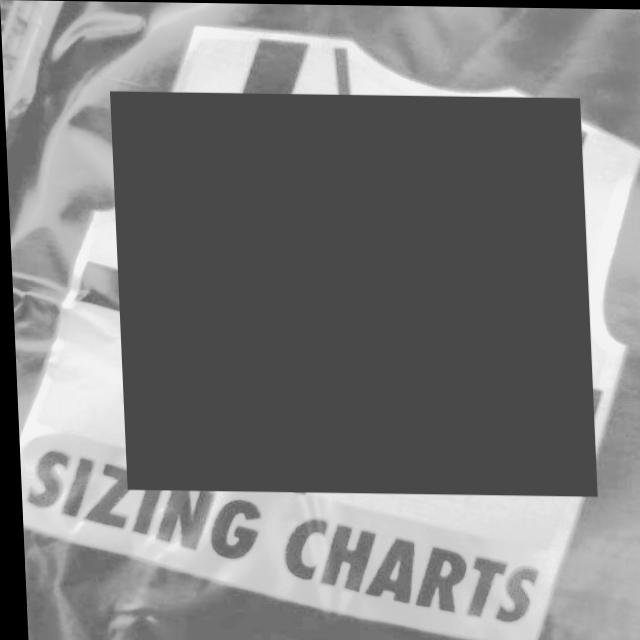qr_code: (109, 91, 593, 495)
